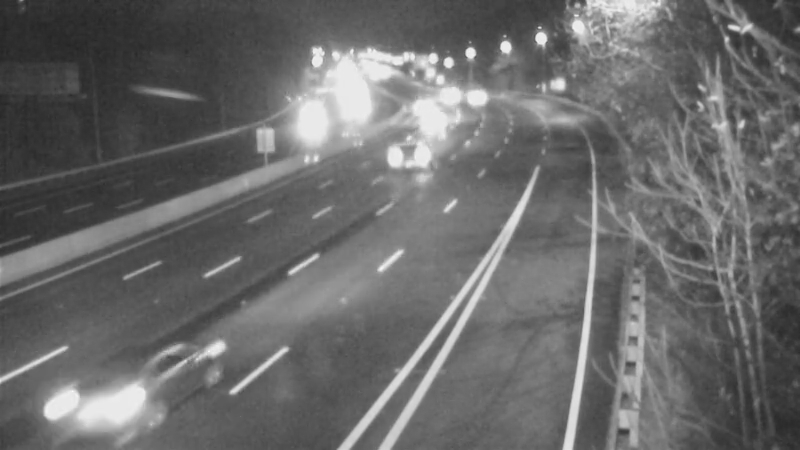vehicle: (48, 349, 158, 450), (373, 115, 453, 195), (424, 69, 474, 119), (447, 71, 497, 121), (396, 78, 446, 128), (407, 96, 457, 146), (284, 97, 334, 147)
